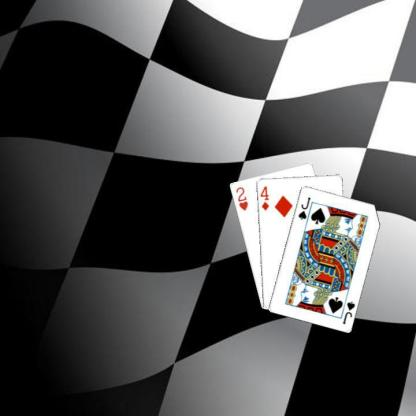2H: (233, 184, 249, 212)
4D: (258, 183, 270, 212)
JS: (296, 194, 312, 220), (340, 299, 356, 325)
